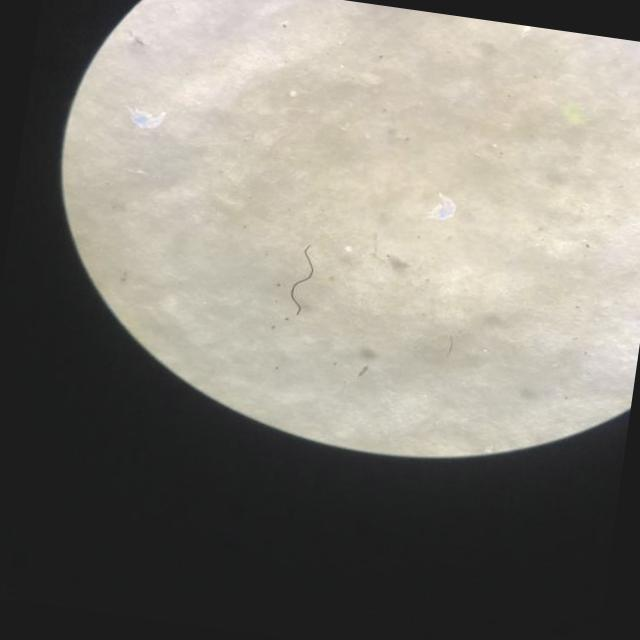fiber: (290, 246, 313, 315)
film: (134, 109, 162, 129), (436, 201, 453, 220)
fragment: (562, 105, 582, 124)
pellet: (289, 91, 294, 97), (346, 248, 351, 253)
